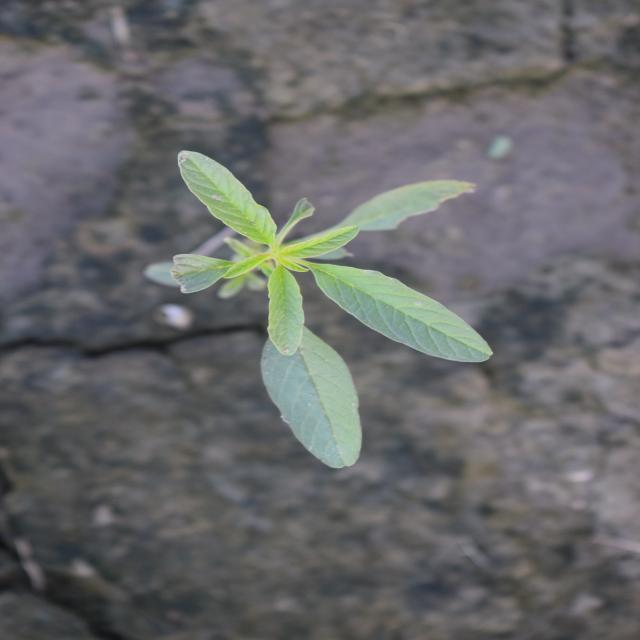Waterhemp: (168, 148, 496, 472)
